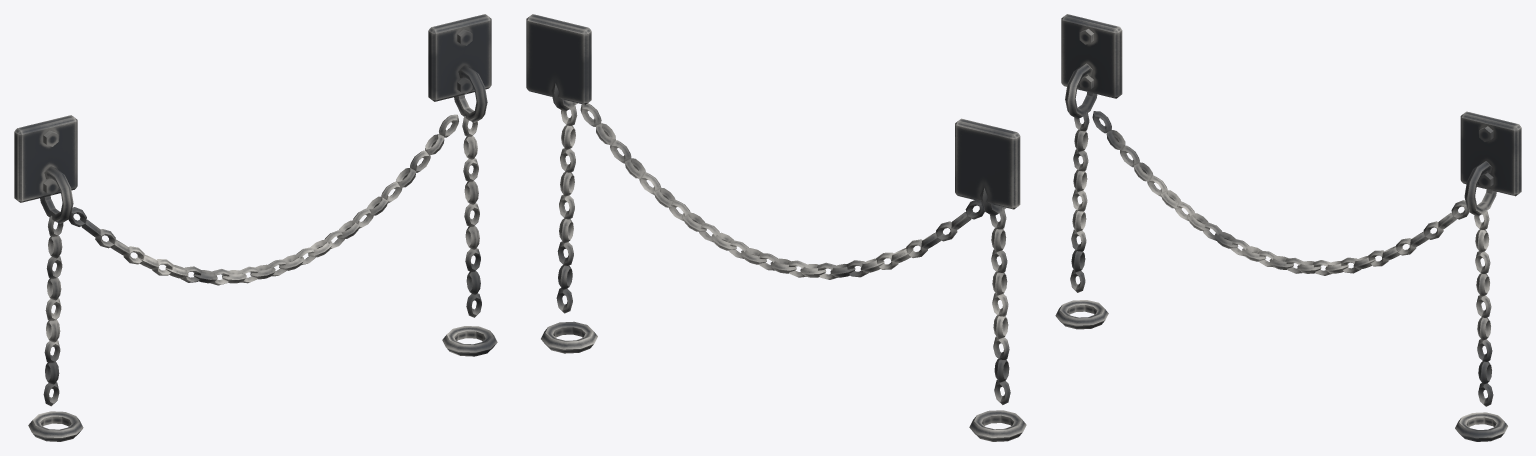
The model's file is gallows_wall_chains.glb.
The picture shows the model from 3 angles, left to right: view 1: azimuth 30°, elevation 25°; view 2: azimuth 150°, elevation 25°; view 3: azimuth 330°, elevation 25°; orthographic projection. The views are drawn at different scales.
Visible parts, largest first — view 1: gallows_wall_chains; view 2: gallows_wall_chains; view 3: gallows_wall_chains.
Part boxes in pixels (bbox=[...]): gallows_wall_chains: bbox=[14, 14, 497, 441]; gallows_wall_chains: bbox=[526, 14, 1026, 441]; gallows_wall_chains: bbox=[1055, 14, 1521, 441].
Bounding box in the file's own units: 2.06 × 1.32 × 0.224.
Materials: 1 (1 with a texture image).
